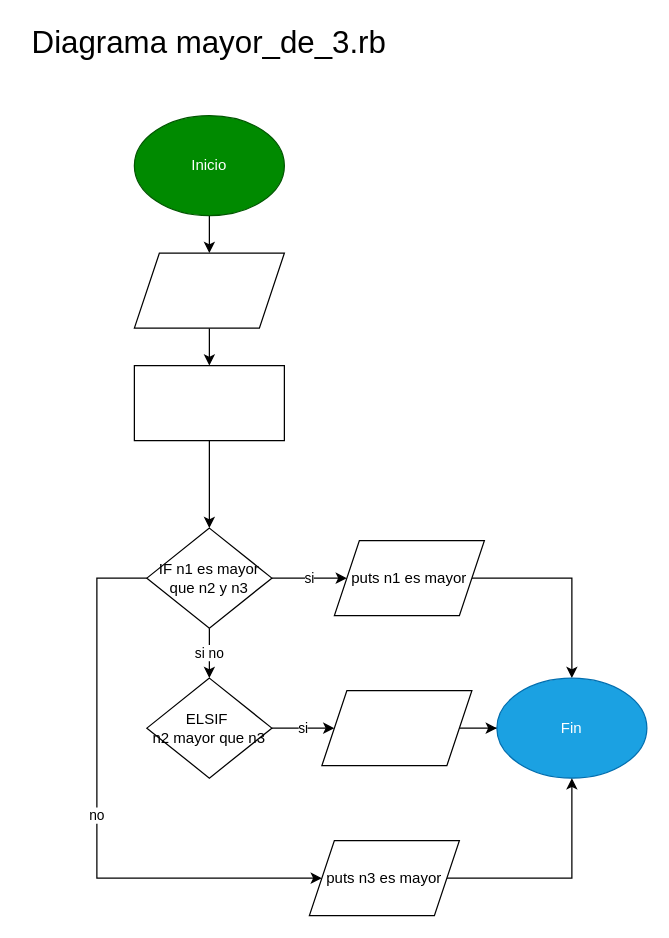
The diagram is 669 pixels wide and 938 high, and some of its shapes have lost their labels. Each missing label, with the box of its shape:
Guardar valores en variables n1, n2 y n3: (133, 364, 284, 441)
Leer 3 números ingresador por usuario: (133, 252, 284, 328)
puts n2 es mayor: (321, 689, 472, 766)
